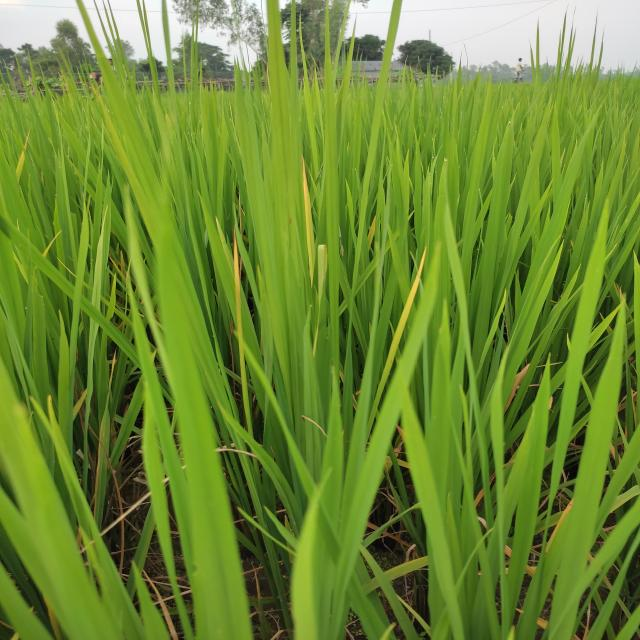HealthyLeaf: (194, 467, 224, 630), (261, 222, 303, 334), (161, 256, 187, 352), (24, 522, 68, 572)
